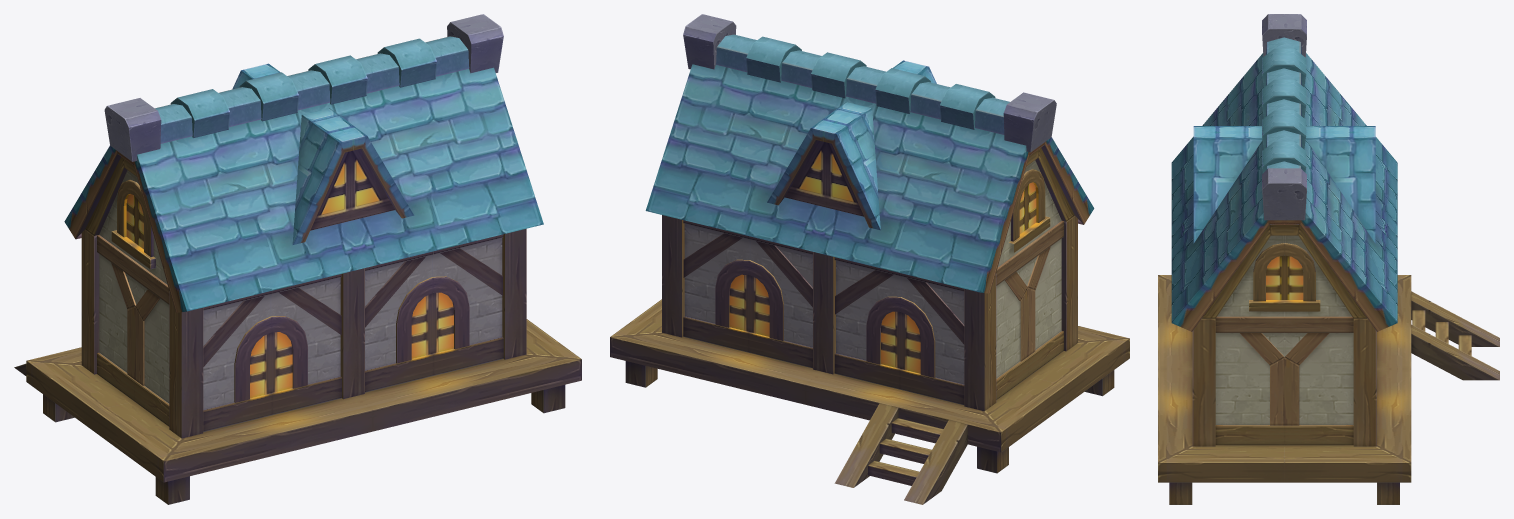
File: scenes_town_house02b.FBX
3 views of the same model, side by side, from view 1: azimuth 30°, elevation 25°; view 2: azimuth 150°, elevation 25°; view 3: azimuth 270°, elevation 25° (orthographic). The views are drawn at different scales.
Parts seen in each view (by area): view 1: scenes_town_house02b; view 2: scenes_town_house02b; view 3: scenes_town_house02b.
Boxes of the visible parts, bbox=[...] form: scenes_town_house02b: bbox=[14, 14, 581, 504]; scenes_town_house02b: bbox=[610, 14, 1129, 504]; scenes_town_house02b: bbox=[1158, 14, 1499, 504].
Bounding box in the file's own units: 856 × 674 × 658.
